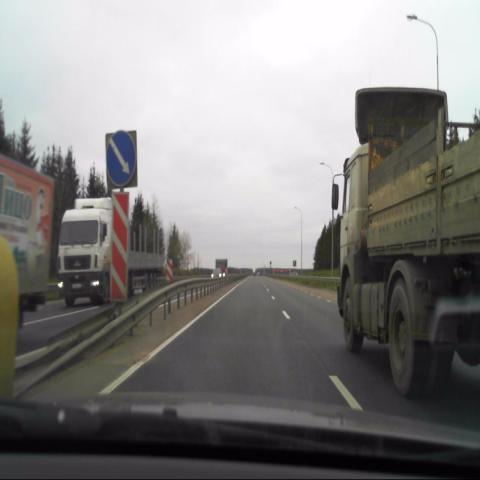4_2_1: (104, 132, 139, 188)
